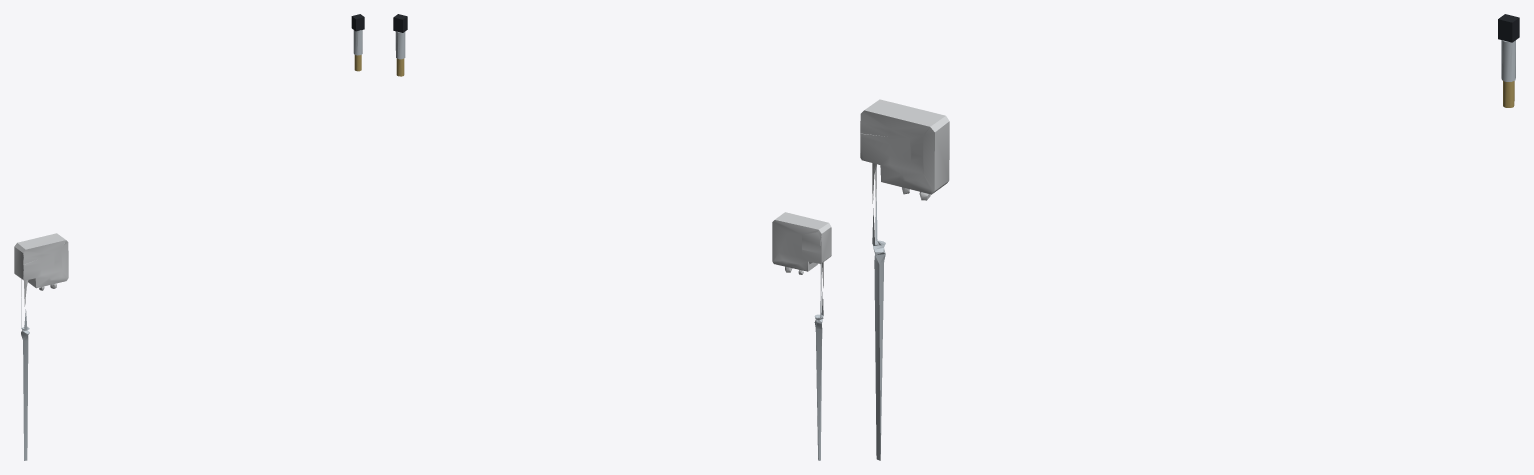
The model's file is trim-comfort.glb.
The picture shows the model from 3 angles, left to right: view 1: azimuth 30°, elevation 25°; view 2: azimuth 150°, elevation 25°; view 3: azimuth 330°, elevation 25°; orthographic projection. The views are drawn at different scales.
Parts seen in each view (by area): view 1: lcs600, pressure_transmitter; view 2: lcs600, pressure_transmitter; view 3: lcs600, pressure_transmitter.
Part boxes in pixels (<box>): lcs600: <box>14,233,68,460</box>; pressure_transmitter: <box>351,14,364,71</box>; lcs600: <box>772,212,831,460</box>; pressure_transmitter: <box>393,14,407,76</box>; lcs600: <box>860,99,949,460</box>; pressure_transmitter: <box>1498,14,1519,107</box>.
Bounding box in the file's own units: 1.43 × 1.25 × 0.2197.
